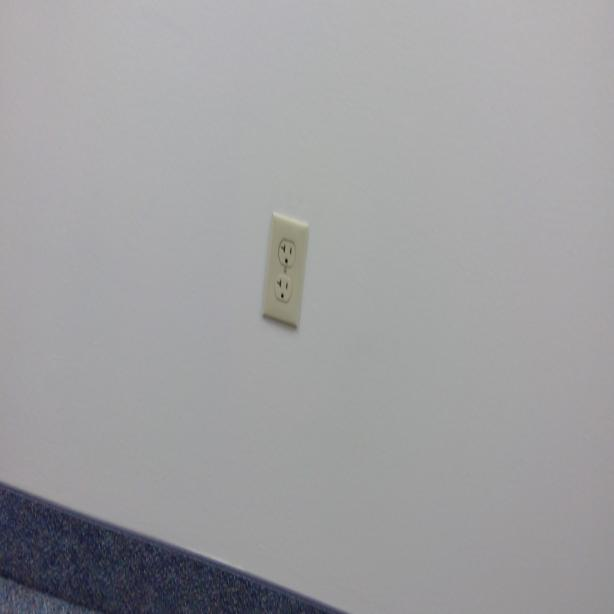typeb: (273, 272, 293, 302), (277, 238, 295, 268)
